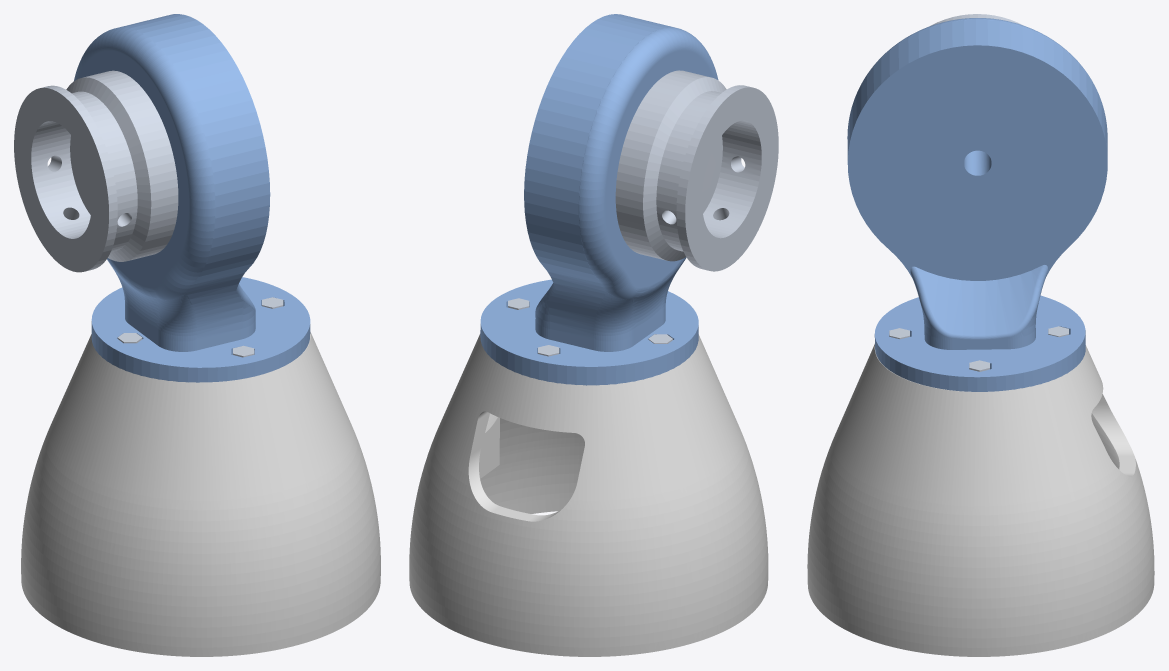
Rendered from codo_izq_tuercas.dae.
3 renders of one model, left to right at view 1: azimuth 30°, elevation 25°; view 2: azimuth 150°, elevation 25°; view 3: azimuth 270°, elevation 25°, orthographic. The views are drawn at different scales.
Parts seen in each view (by area): view 1: Forearm9-1-1, E5P1.001, E5P1.002; view 2: Forearm9-1-1, E5P1.001, E5P1.002; view 3: Forearm9-1-1, E5P1.001.
Boxes of the visible parts, bbox=[...] form: Forearm9-1-1: bbox=[21, 332, 380, 656]; E5P1.001: bbox=[74, 14, 310, 382]; E5P1.002: bbox=[14, 70, 178, 272]; Forearm9-1-1: bbox=[409, 334, 768, 656]; E5P1.001: bbox=[480, 14, 718, 385]; E5P1.002: bbox=[615, 70, 778, 271]; Forearm9-1-1: bbox=[807, 344, 1154, 656]; E5P1.001: bbox=[847, 18, 1107, 391].
Bounding box in the file's own units: 0.0872 × 0.0872 × 0.1495.
